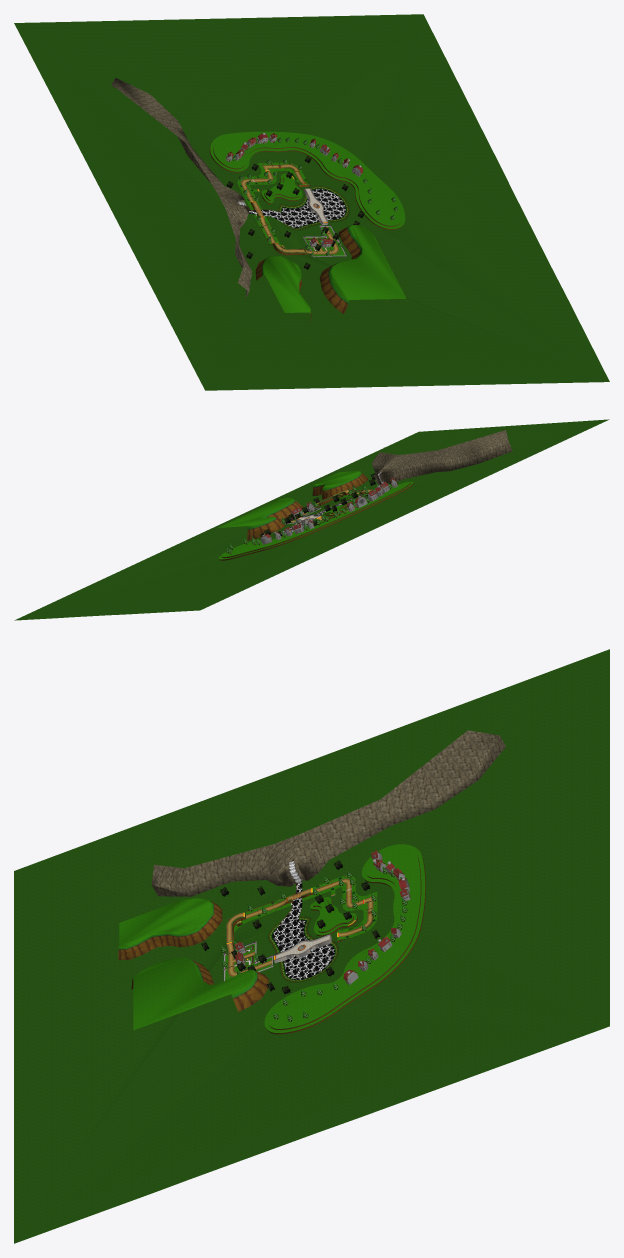
3 renders of one model, top to bottom at view 1: azimuth 30°, elevation 25°; view 2: azimuth 210°, elevation 25°; view 3: azimuth 270°, elevation 25°, orthographic. The views are drawn at different scales.
Visible parts, largest first — view 1: Grassy_Plains_v3_5-SKP--GP_MainRoad.010, Grassy_Plains_v3_5-SKP--GP_MainRoad.025, Grassy_Plains_v3_5-SKP--GP_MainRoad.012, Grassy_Plains_v3_5-SKP--GP_MainRoad.032, Grassy_Plains_v3_5-SKP--GP_MainRoad.023, Grassy_Plains_v3_5-SKP--GP_MainRoad.001, Grassy_Plains_v3_5-SKP--GP_MainRoad.005, Grassy_Plains_v3_5-SKP--GP_MainRoad.007, Grassy_Plains_v3_5-SKP--GP_MainRoad.003, Grassy_Plains_v3_5-SKP--GP_MainRoad.009; view 2: Grassy_Plains_v3_5-SKP--GP_MainRoad.010, Grassy_Plains_v3_5-SKP--GP_MainRoad.012, Grassy_Plains_v3_5-SKP--GP_MainRoad.025, Grassy_Plains_v3_5-SKP--GP_MainRoad.032, Grassy_Plains_v3_5-SKP--GP_MainRoad.009, Grassy_Plains_v3_5-SKP--GP_MainRoad.003, Grassy_Plains_v3_5-SKP--GP_MainRoad.005; view 3: Grassy_Plains_v3_5-SKP--GP_MainRoad.010, Grassy_Plains_v3_5-SKP--GP_MainRoad.025, Grassy_Plains_v3_5-SKP--GP_MainRoad.012, Grassy_Plains_v3_5-SKP--GP_MainRoad.032, Grassy_Plains_v3_5-SKP--GP_MainRoad.023, Grassy_Plains_v3_5-SKP--GP_MainRoad.001, Grassy_Plains_v3_5-SKP--GP_MainRoad.005, Grassy_Plains_v3_5-SKP--GP_MainRoad.003, Grassy_Plains_v3_5-SKP--GP_MainRoad.007, Grassy_Plains_v3_5-SKP--GP_MainRoad.009.
Part boxes in pixels (<box>): Grassy_Plains_v3_5-SKP--GP_MainRoad.010: <box>14,14,609,390</box>; Grassy_Plains_v3_5-SKP--GP_MainRoad.025: <box>210,131,406,313</box>; Grassy_Plains_v3_5-SKP--GP_MainRoad.012: <box>111,77,251,299</box>; Grassy_Plains_v3_5-SKP--GP_MainRoad.032: <box>209,145,402,322</box>; Grassy_Plains_v3_5-SKP--GP_MainRoad.023: <box>248,189,345,227</box>; Grassy_Plains_v3_5-SKP--GP_MainRoad.001: <box>241,164,338,254</box>; Grassy_Plains_v3_5-SKP--GP_MainRoad.005: <box>232,137,397,257</box>; Grassy_Plains_v3_5-SKP--GP_MainRoad.007: <box>277,185,350,230</box>; Grassy_Plains_v3_5-SKP--GP_MainRoad.003: <box>226,156,364,269</box>; Grassy_Plains_v3_5-SKP--GP_MainRoad.009: <box>226,133,361,247</box>; Grassy_Plains_v3_5-SKP--GP_MainRoad.010: <box>14,419,609,620</box>; Grassy_Plains_v3_5-SKP--GP_MainRoad.012: <box>372,430,512,485</box>; Grassy_Plains_v3_5-SKP--GP_MainRoad.025: <box>218,471,413,559</box>; Grassy_Plains_v3_5-SKP--GP_MainRoad.032: <box>219,472,414,560</box>; Grassy_Plains_v3_5-SKP--GP_MainRoad.009: <box>261,479,397,544</box>; Grassy_Plains_v3_5-SKP--GP_MainRoad.003: <box>259,473,397,537</box>; Grassy_Plains_v3_5-SKP--GP_MainRoad.005: <box>226,482,391,554</box>; Grassy_Plains_v3_5-SKP--GP_MainRoad.010: <box>14,649,609,1243</box>; Grassy_Plains_v3_5-SKP--GP_MainRoad.025: <box>118,844,425,1032</box>; Grassy_Plains_v3_5-SKP--GP_MainRoad.012: <box>151,730,505,896</box>; Grassy_Plains_v3_5-SKP--GP_MainRoad.032: <box>118,854,425,1034</box>; Grassy_Plains_v3_5-SKP--GP_MainRoad.023: <box>272,881,334,979</box>; Grassy_Plains_v3_5-SKP--GP_MainRoad.001: <box>226,878,373,976</box>; Grassy_Plains_v3_5-SKP--GP_MainRoad.005: <box>220,866,407,1021</box>; Grassy_Plains_v3_5-SKP--GP_MainRoad.003: <box>201,860,380,993</box>; Grassy_Plains_v3_5-SKP--GP_MainRoad.007: <box>267,916,339,982</box>; Grassy_Plains_v3_5-SKP--GP_MainRoad.009: <box>236,852,410,984</box>.
Size of the model in its own units: 371978 by 222118 by 330425.
33 materials, 33 textured.
